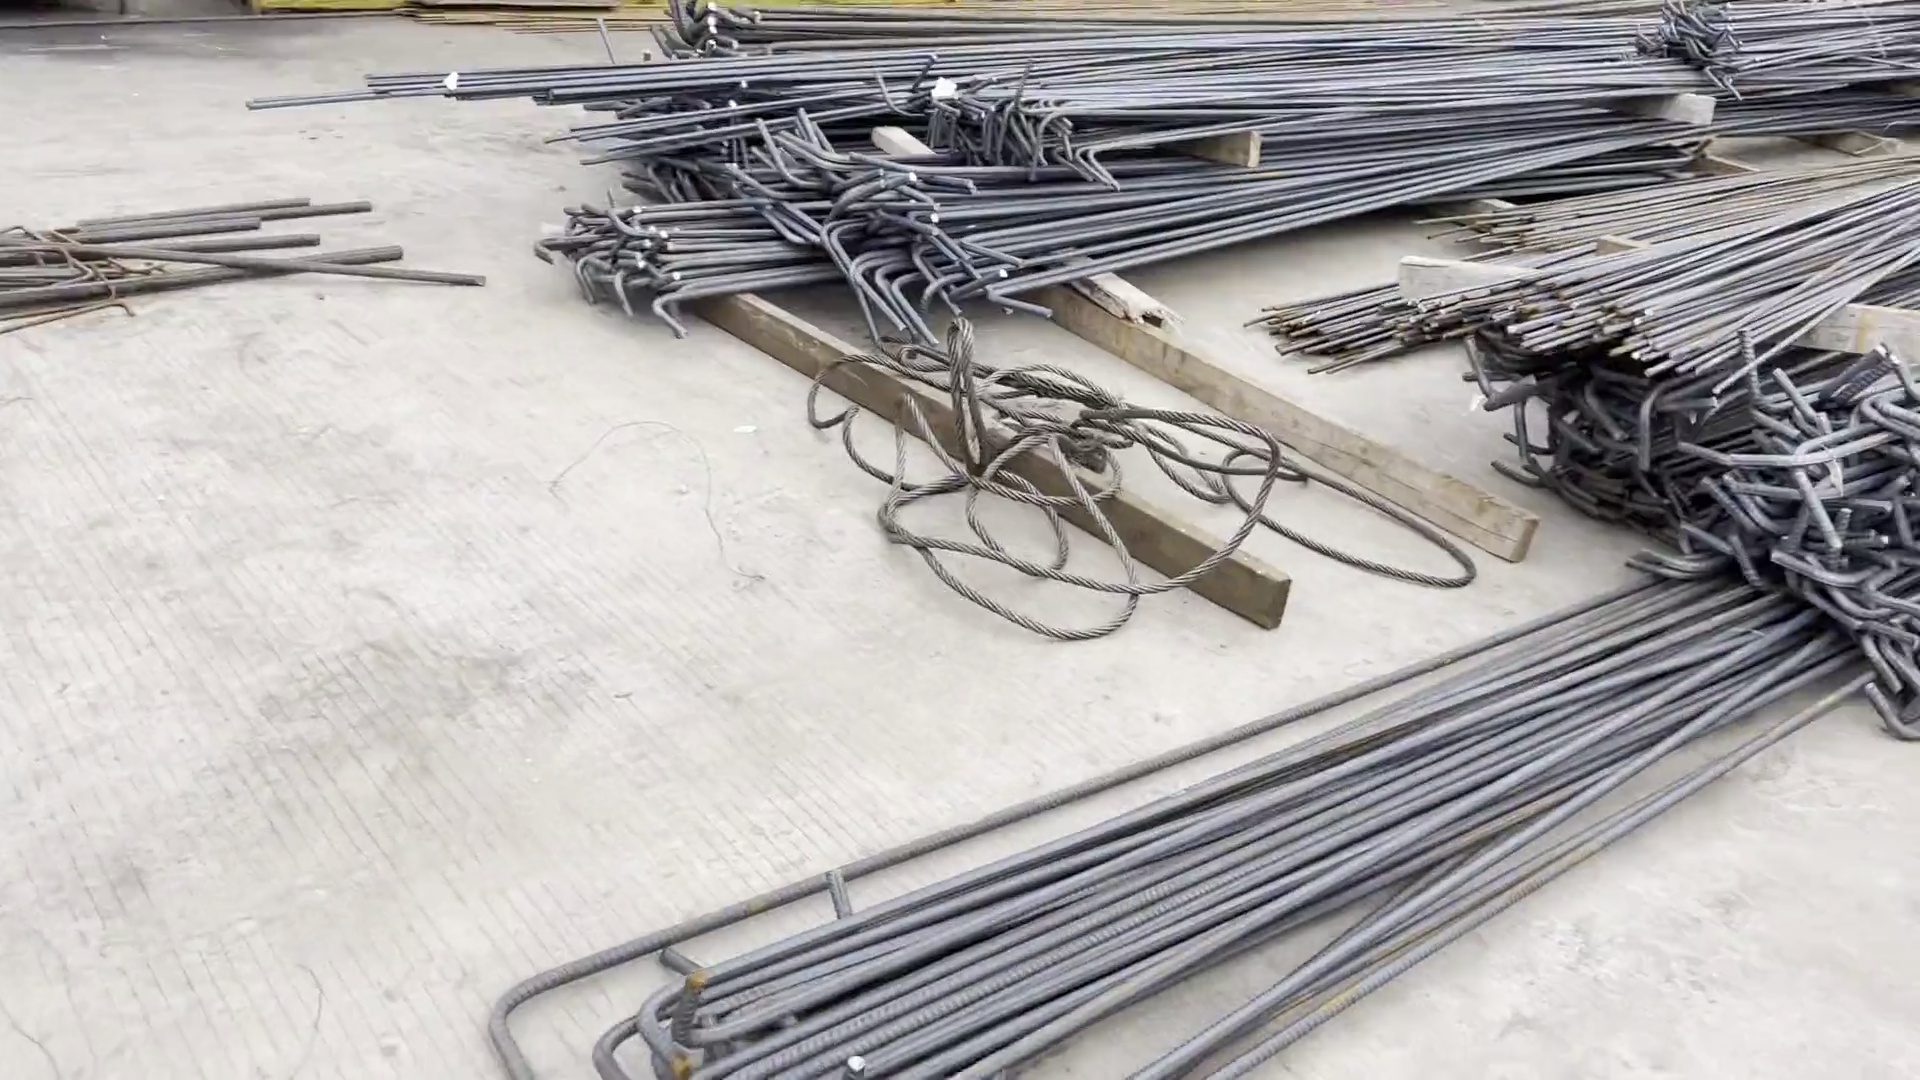rebar: (434, 575, 1888, 1071), (411, 1, 1898, 360), (1458, 247, 1915, 738)
